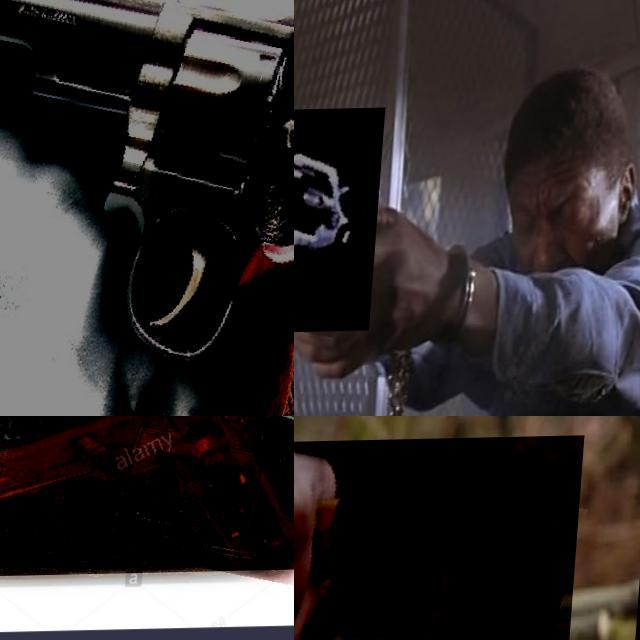-: (294, 437, 587, 640)
gun-knife-thesis - v11 Yolov5 augmented: (0, 0, 294, 416), (0, 416, 294, 577), (294, 108, 387, 334)
